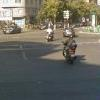Motorcycle: (58, 34, 80, 64)
